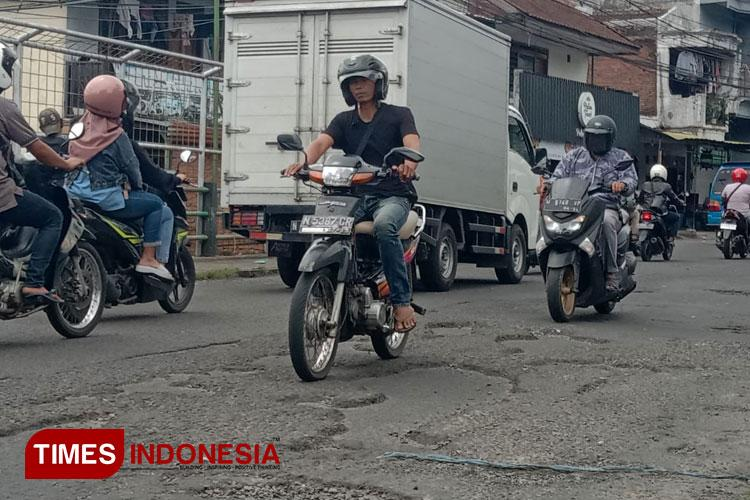Pothole: (186, 328, 524, 500), (0, 343, 157, 500), (468, 309, 667, 420)
